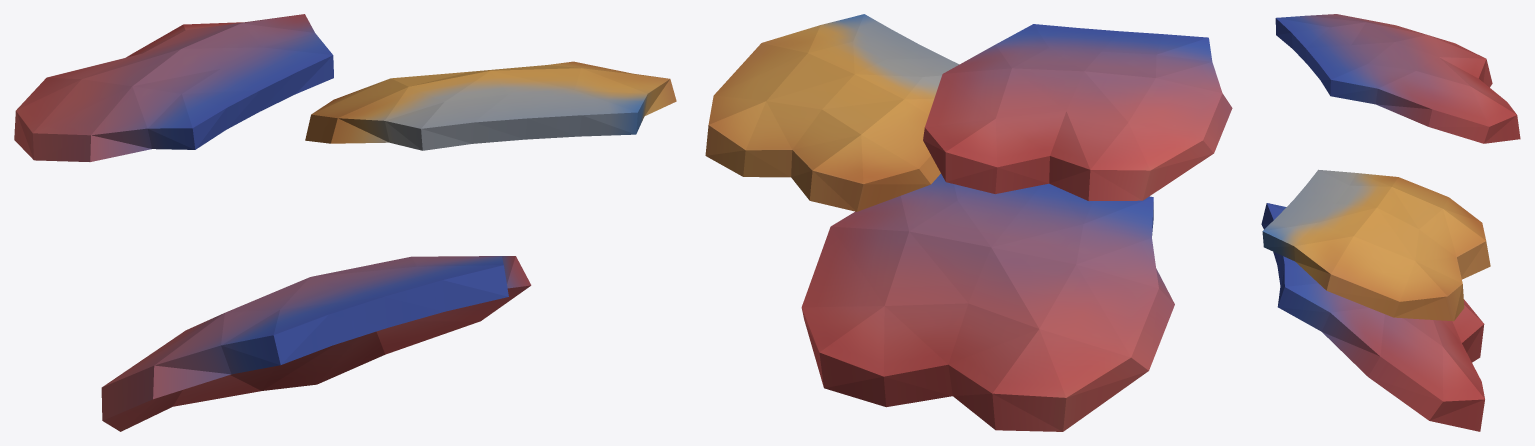
File: Coral_03.FBX
The picture shows the model from 3 angles, left to right: view 1: azimuth 30°, elevation 25°; view 2: azimuth 150°, elevation 25°; view 3: azimuth 270°, elevation 25°; orthographic projection. The views are drawn at different scales.
Visible parts, largest first — view 1: Coral_03; view 2: Coral_03; view 3: Coral_03.
Part boxes in pixels (left/top/right/bottom): Coral_03: left=14, top=14, right=676, bottom=431; Coral_03: left=705, top=14, right=1232, bottom=431; Coral_03: left=1261, top=14, right=1520, bottom=431.
Bounding box in the file's own units: 6.55 × 4.31 × 3.33.
